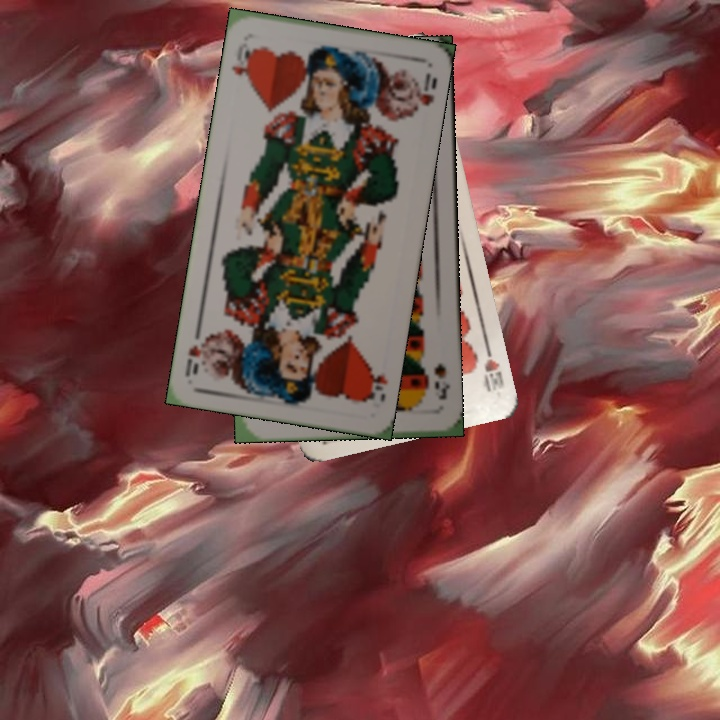H10: (479, 337, 507, 395)
HO: (227, 44, 258, 85), (361, 363, 391, 405)
S8: (430, 359, 453, 402)
